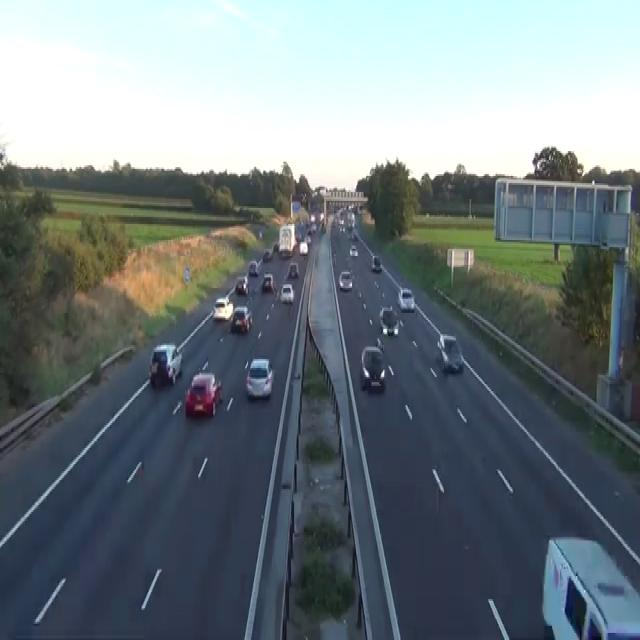Car: (184, 372, 222, 418), (148, 343, 182, 388), (245, 358, 274, 398), (360, 345, 385, 391), (436, 332, 463, 372), (231, 304, 252, 332), (379, 306, 398, 334), (212, 297, 233, 320), (397, 286, 415, 311), (279, 283, 294, 304), (338, 270, 352, 290), (234, 276, 249, 294), (262, 272, 275, 292), (287, 262, 299, 278), (248, 260, 260, 276), (379, 304, 392, 318), (371, 254, 381, 272), (299, 240, 308, 256), (375, 336, 384, 352), (262, 247, 272, 261), (183, 266, 190, 284), (281, 247, 292, 258), (349, 244, 358, 256), (338, 219, 345, 231), (351, 229, 358, 240), (272, 242, 279, 252), (446, 182, 454, 190), (305, 233, 311, 243), (321, 222, 326, 233), (339, 217, 344, 226), (333, 251, 336, 265), (320, 212, 324, 222), (257, 258, 262, 266), (258, 230, 262, 238)
Truck: (541, 535, 639, 638), (278, 222, 296, 258)
